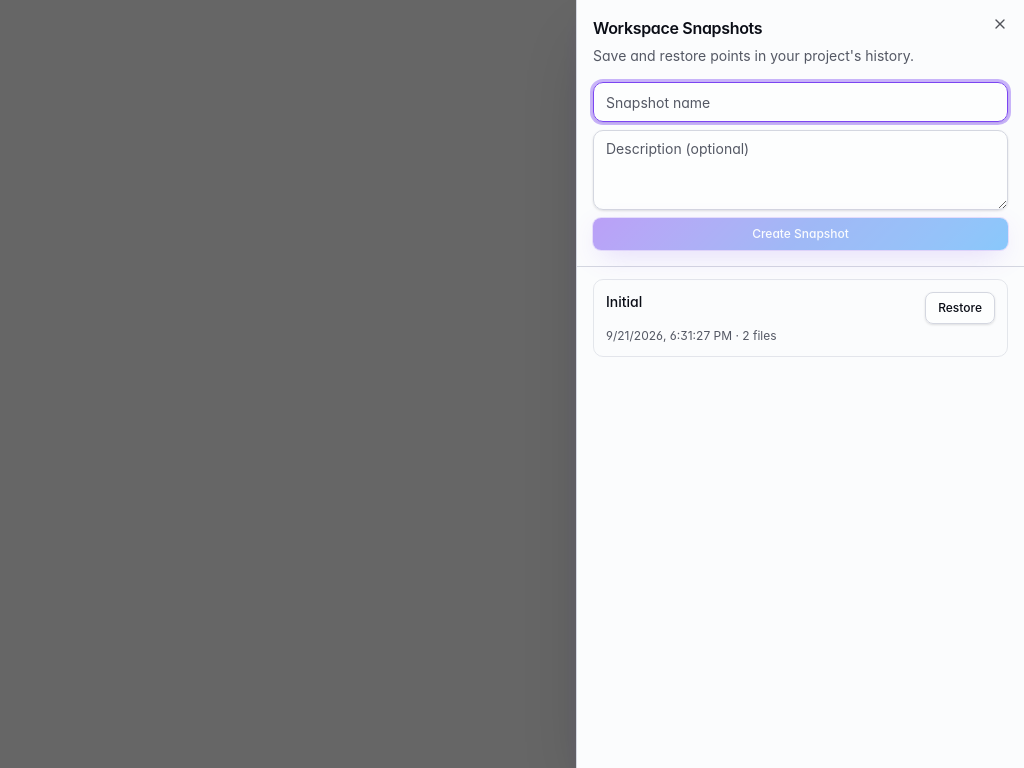
Test case: SnapshotPanel › disables Create Snapshot until a name is entered
The image size is (1024, 768).
expect the button "Create Snapshot" is disabled: met, box [593,218,1008,250]
Step 1. Type "Before refactor" into the field labelled "Snapshot name" → (800, 102), box [593,82,1008,122]
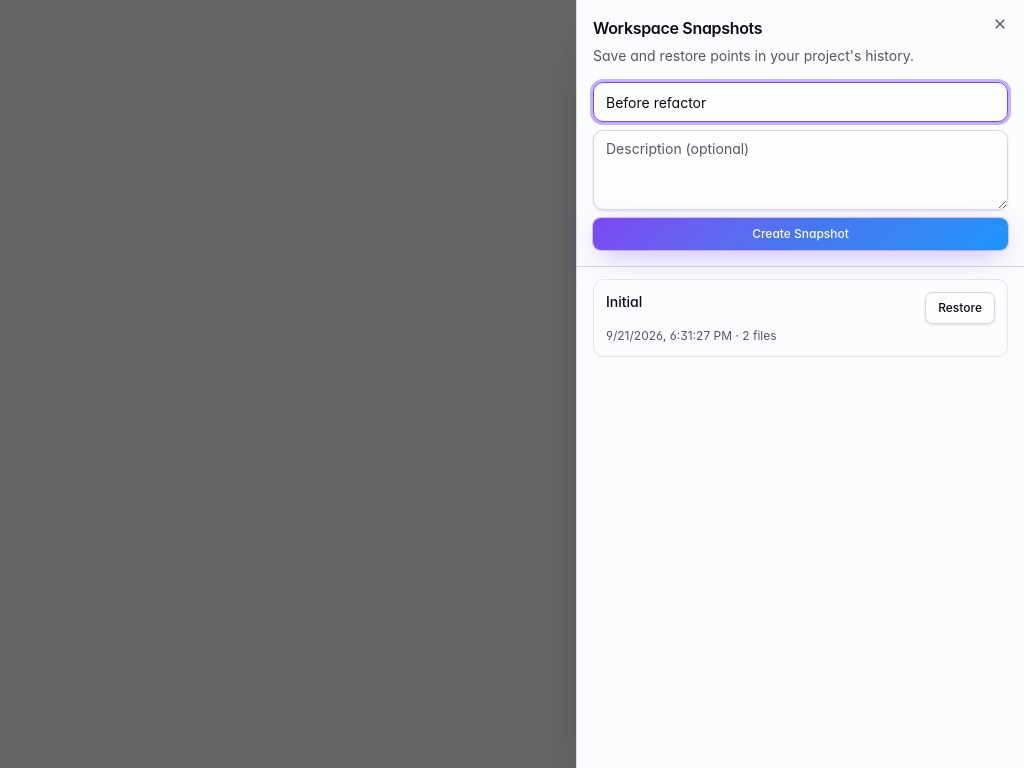
expect the button "Create Snapshot" is enabled: met, box [593,218,1008,250]
